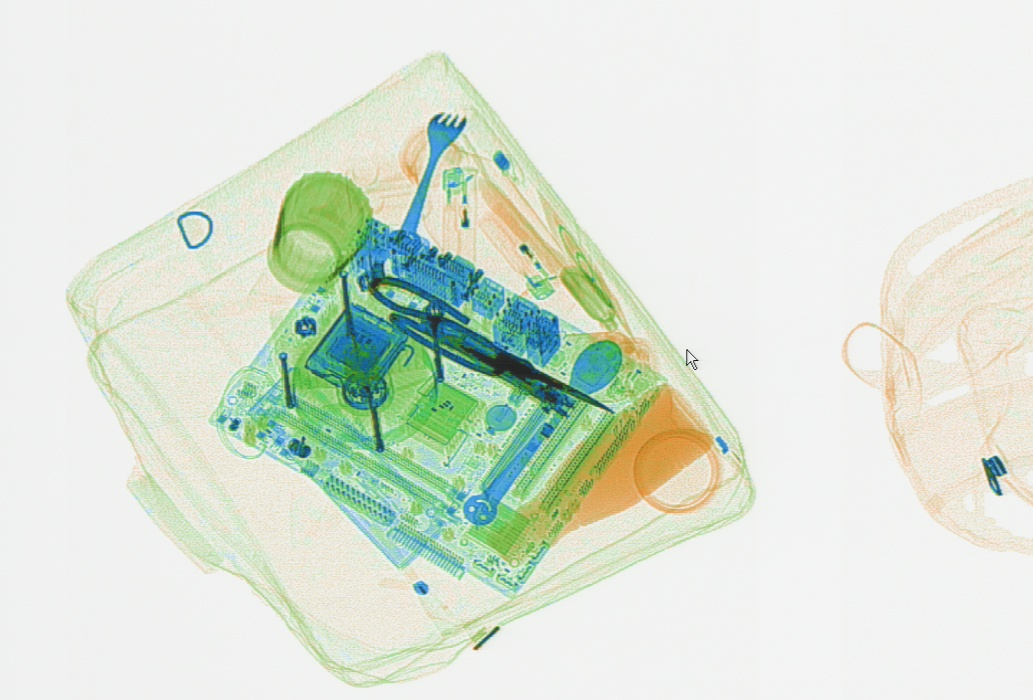lighter: (479, 206, 561, 303), (437, 161, 477, 269)
scissors: (365, 271, 621, 415)
